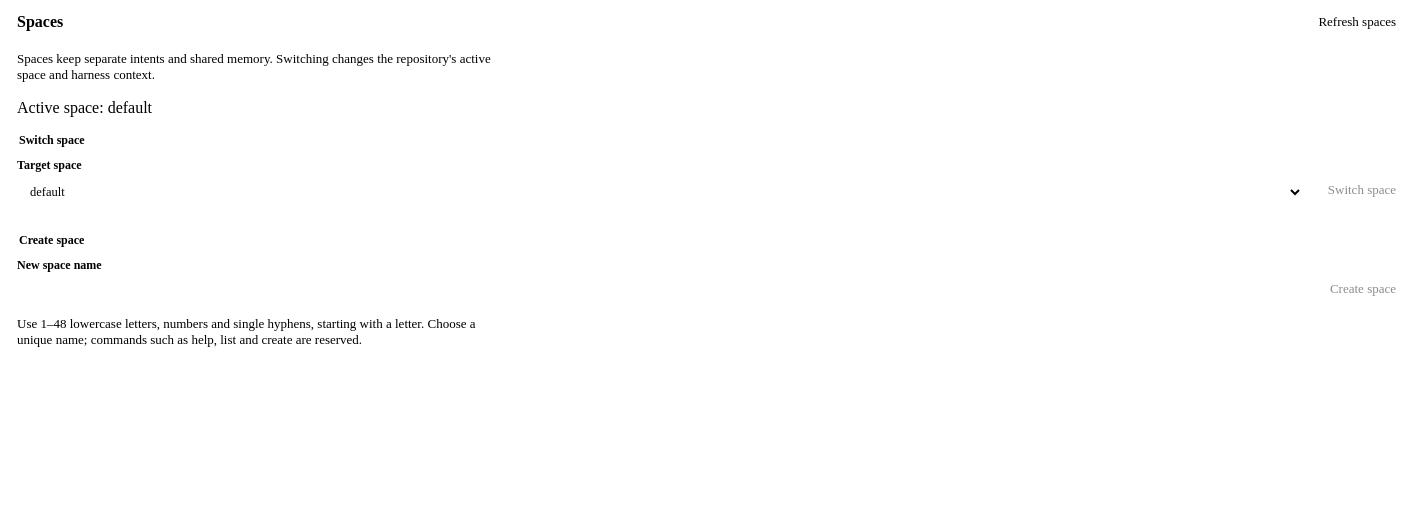
spaces › keeps the disk cursor on a busy refusal and re-reads inventory
Expected: the text "Active space: default" is shown, [17,99,152,116]
Select "team-two" in the dropdown labelled "Target space" at (660, 192), box [17,177,1303,207]
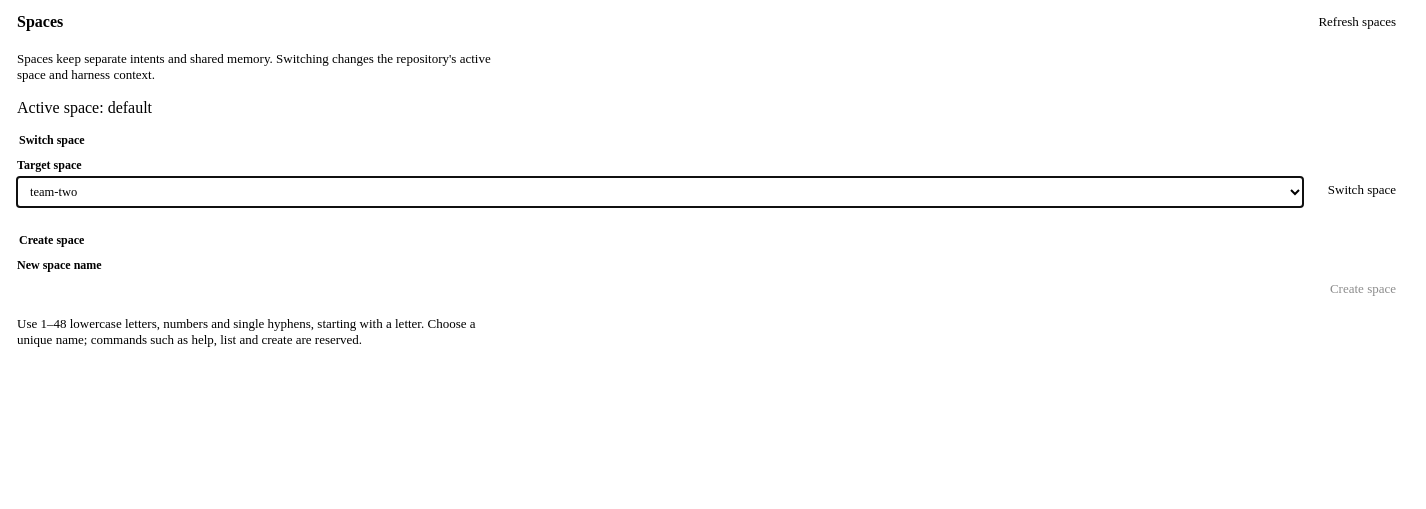
Click the button "Switch space" at (1362, 190), box [1315,173,1409,207]
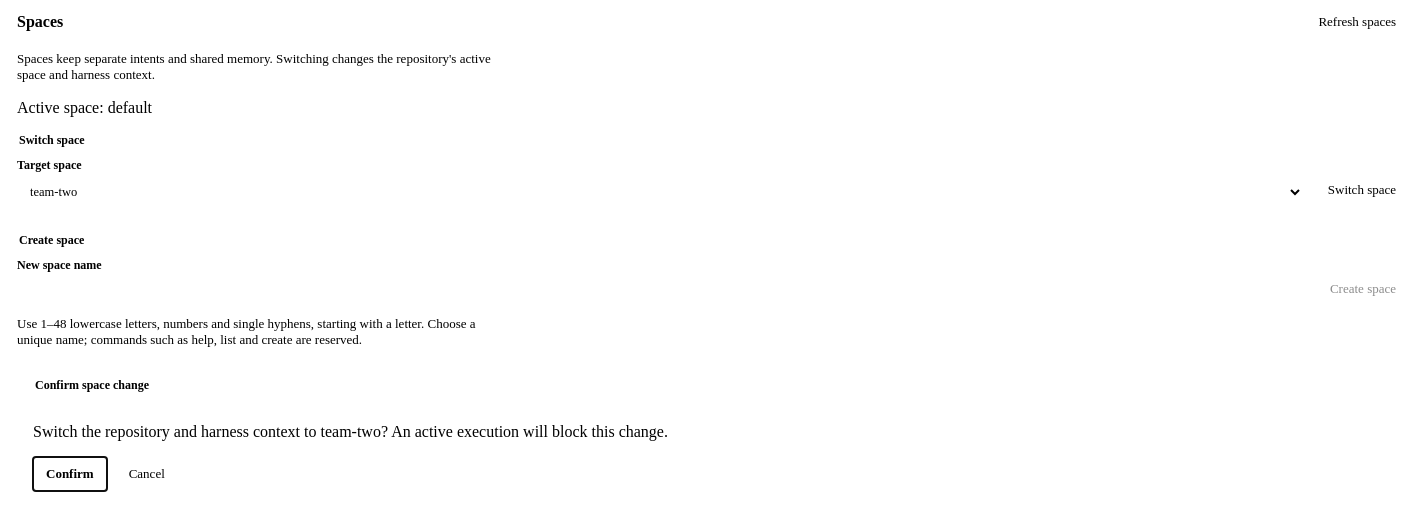
Click the button "Confirm" at (70, 474), box [33,457,107,491]
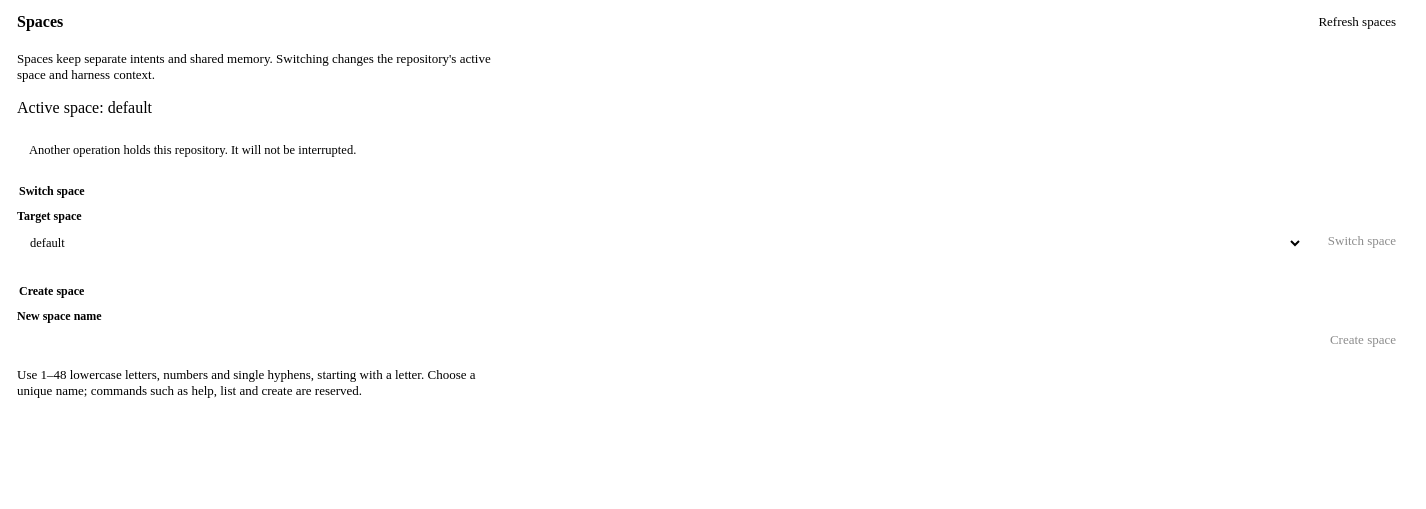
Expected: the text "Active space: default" is shown, [17,99,152,116]
Expected: the message "Another operation holds this repository. It will not be interrupted." is shown, [29,143,356,157]
